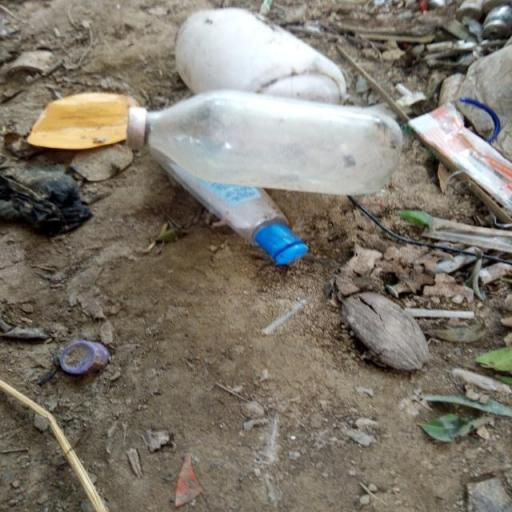glass: (120, 86, 424, 200)
